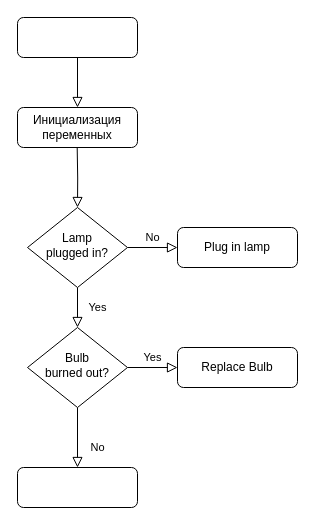
This 315x525 diagram has some shape labels left out. The box of each missing label's shape, as (x1, y1, x2, y2) in pixels:
Repair Lamp: (16, 466, 138, 508)
Начало: (16, 16, 138, 58)
